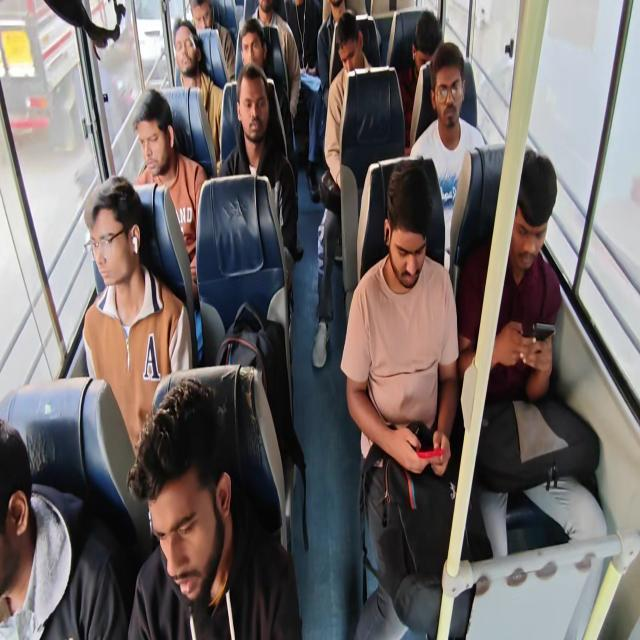person: (138, 398, 234, 581), (0, 402, 40, 576), (84, 187, 138, 292), (509, 169, 554, 285), (130, 97, 181, 190), (386, 202, 428, 296), (432, 54, 470, 129), (231, 72, 267, 142), (168, 19, 206, 79), (330, 22, 364, 82), (407, 25, 441, 78), (240, 26, 272, 80), (186, 0, 212, 36), (314, 0, 350, 21), (244, 0, 270, 19)
